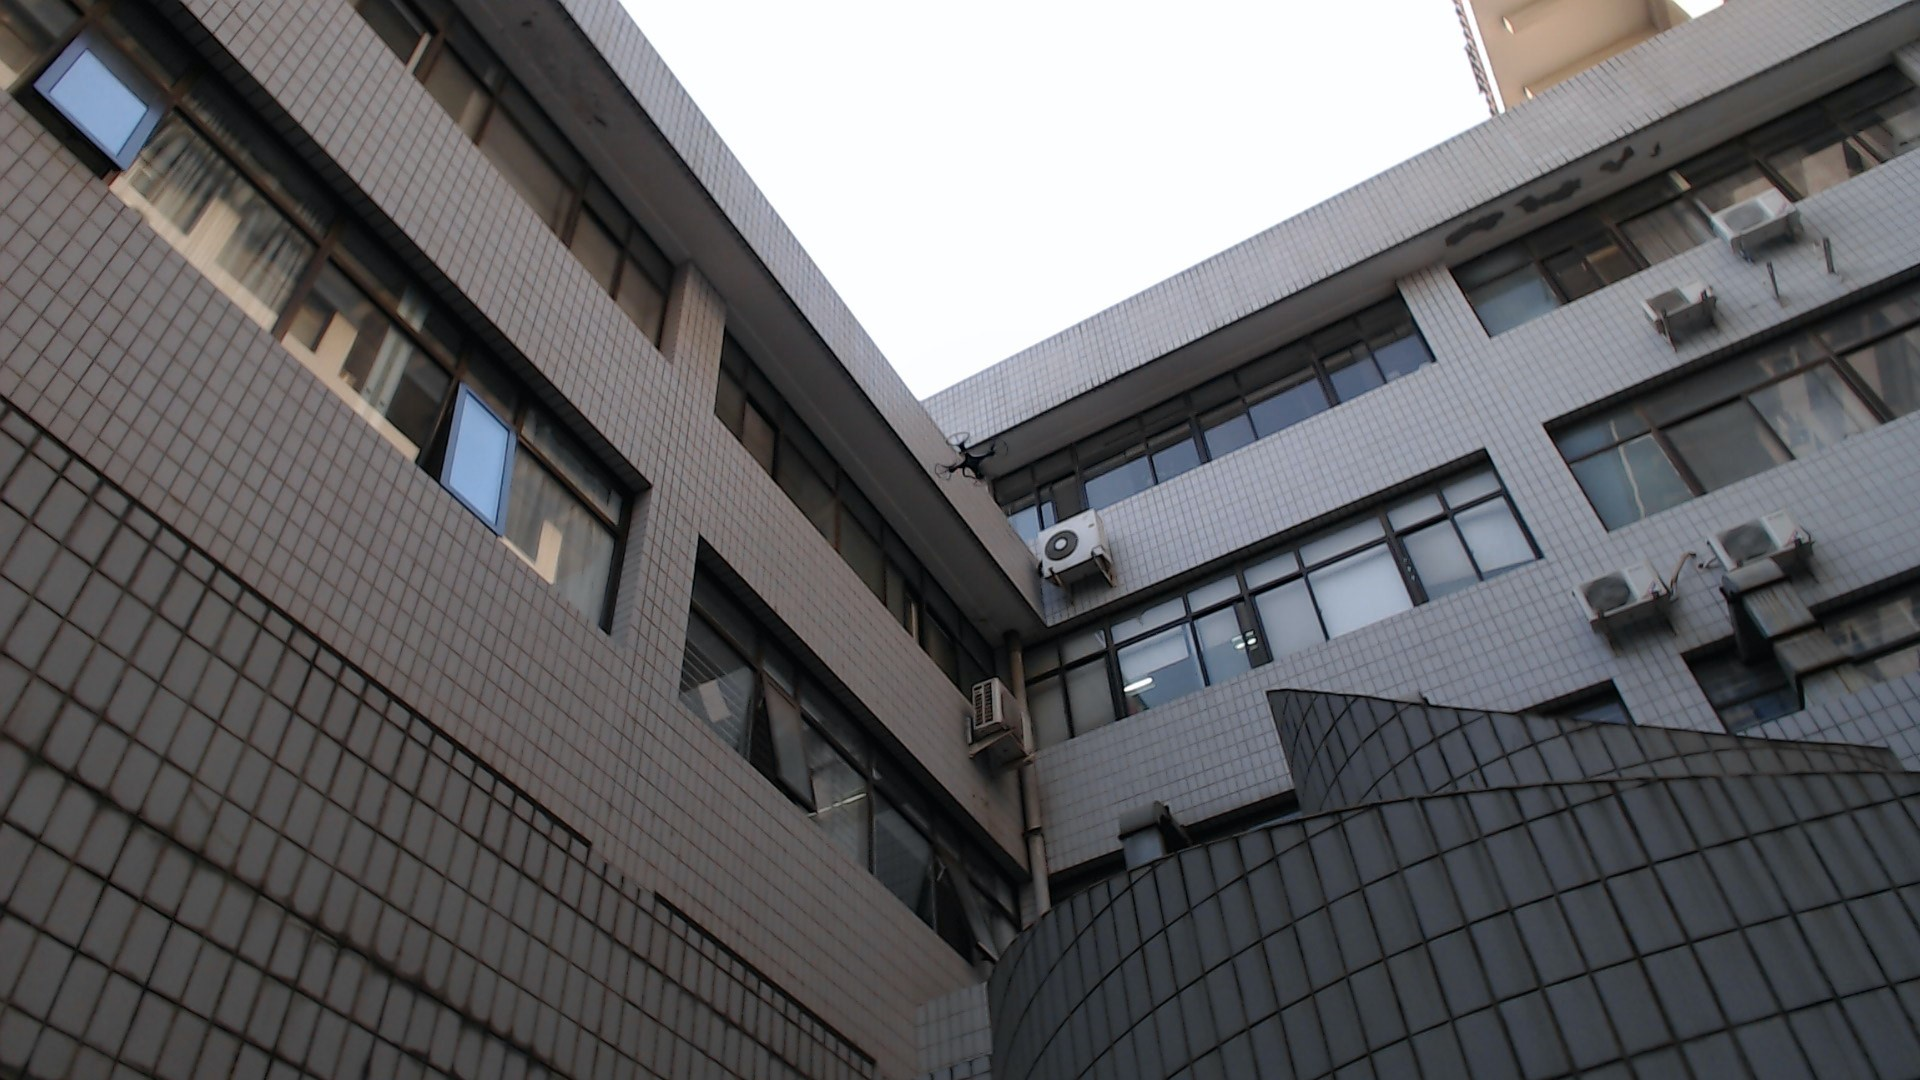drone: (920, 409, 1021, 493)
